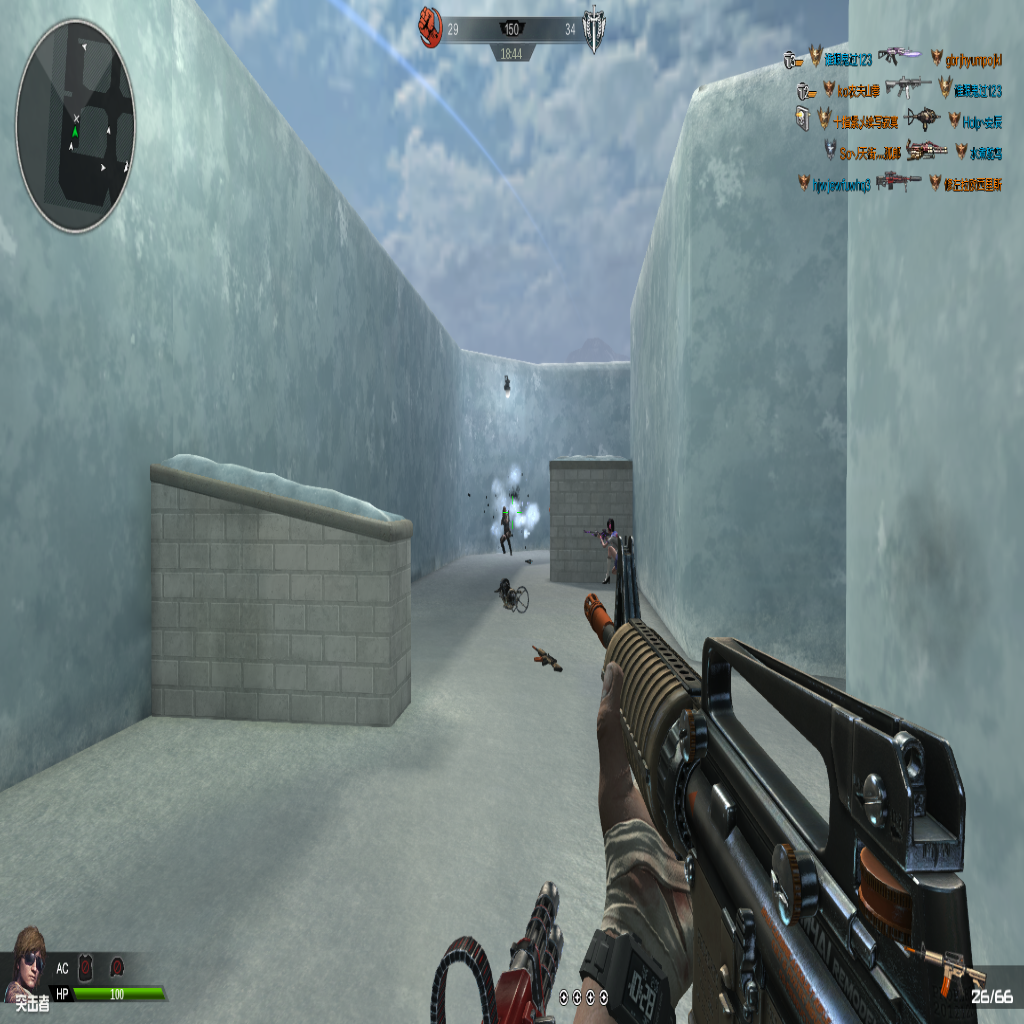ct: (499, 506, 514, 554)
tt: (601, 517, 619, 582)
